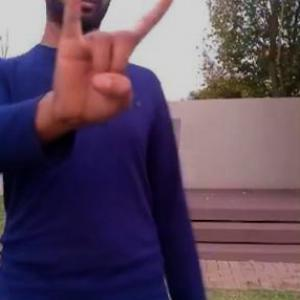takeoff-hand: (49, 0, 183, 125)
